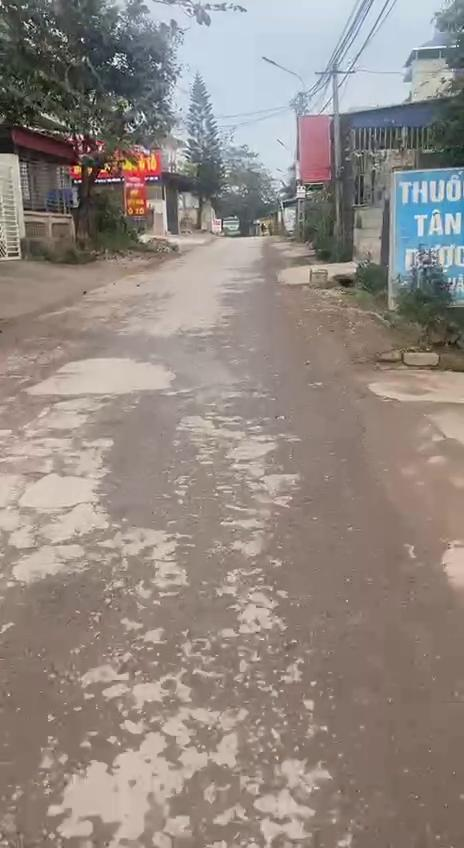pothole: (0, 579, 127, 848)
